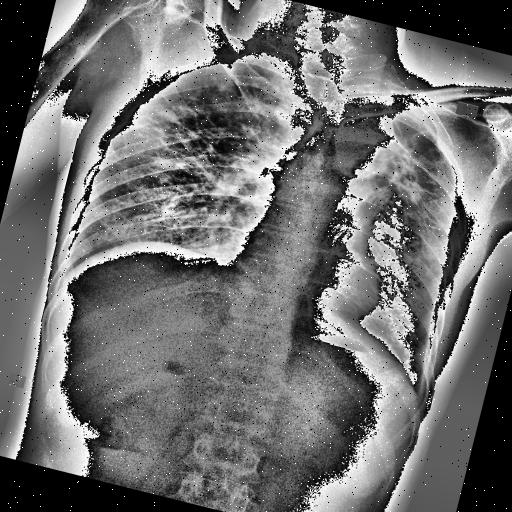1- Atelectasis: (350, 108, 470, 234), (332, 76, 454, 178)
11- Pleural thickening: (325, 78, 457, 190)
13- Pulmonary fibrosis: (120, 54, 300, 208), (120, 75, 276, 227), (128, 48, 287, 196), (344, 116, 473, 234), (350, 108, 470, 234), (356, 140, 456, 246)
6- Infiltration: (120, 54, 300, 208), (120, 75, 276, 227)
